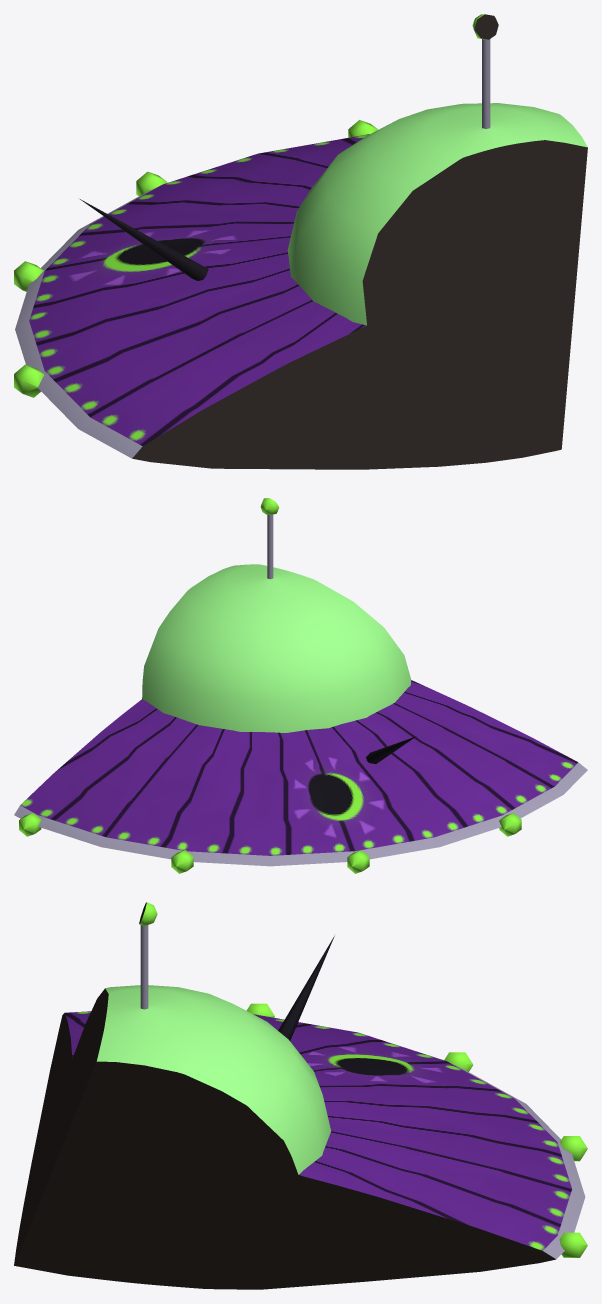
File: scout_saucer_debris1.obj
The picture shows the model from 3 angles, top to bottom: view 1: azimuth 30°, elevation 25°; view 2: azimuth 150°, elevation 25°; view 3: azimuth 270°, elevation 25°; orthographic projection. The views are drawn at different scales.
Parts seen in each view (by area): view 1: disc, dome, rim_light, spike, antenna; view 2: disc, dome, rim_light; view 3: disc, dome, rim_light, spike, antenna.
Part boxes in pixels (x1,y1,x2,y2): disc: (15,134,576,469); dome: (287,103,587,326); rim_light: (14,120,378,397); spike: (80,199,208,280); antenna: (482,31,490,128); disc: (14,680,587,866); dome: (142,564,411,732); rim_light: (19,813,521,873); disc: (14,1011,585,1289); dome: (60,985,330,1176); rim_light: (246,1003,587,1257); spike: (278,935,334,1040); antenna: (140,917,148,1009).
Bounding box in the file's own units: 8.01 × 5.52 × 7.81.
6 materials, 1 textured.
